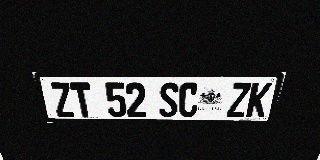2: (125, 83, 146, 117)
5: (105, 83, 127, 117)
C: (178, 83, 199, 117)
K: (245, 83, 273, 117)
S: (159, 83, 179, 117)
T: (69, 83, 95, 117)
Z: (49, 83, 76, 117), (226, 83, 252, 117)
